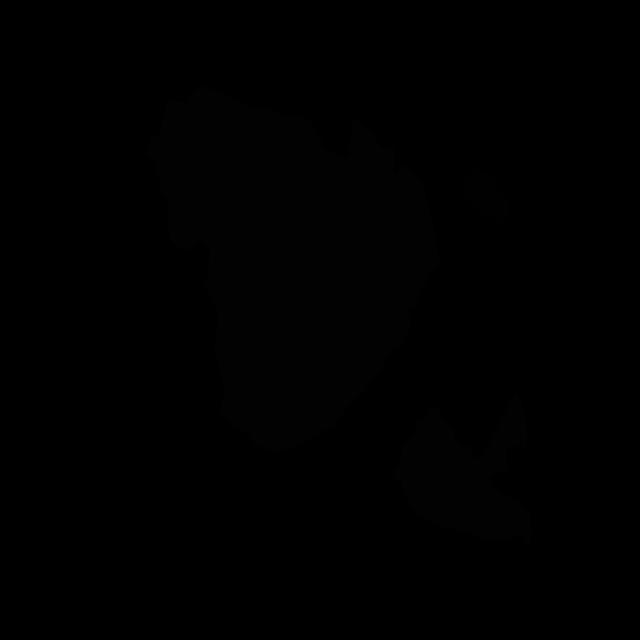cardboard: (146, 84, 442, 451), (391, 391, 532, 544)
rigid_plastic: (466, 169, 510, 225)
